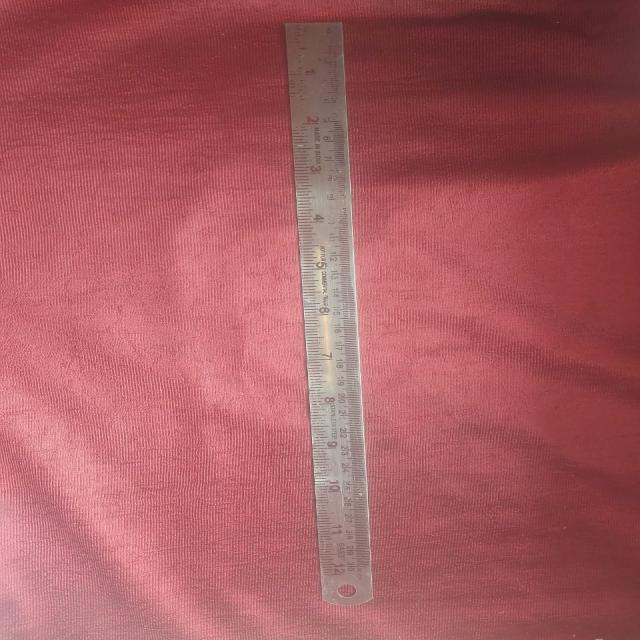scale: (287, 19, 380, 609)
